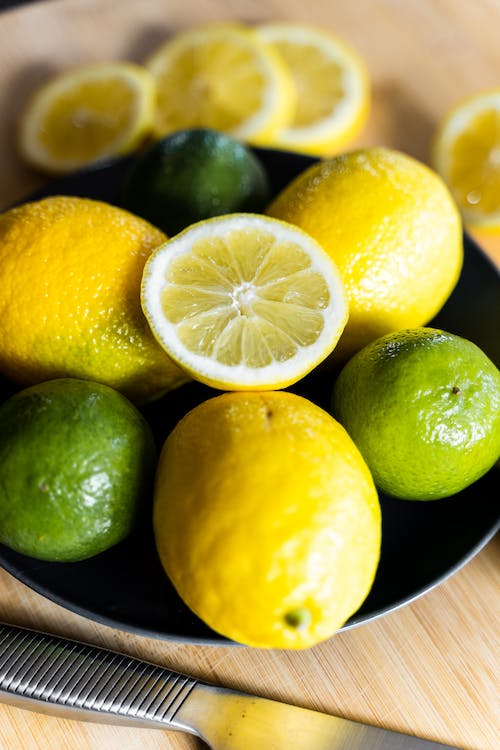knife: (0, 620, 469, 750)
